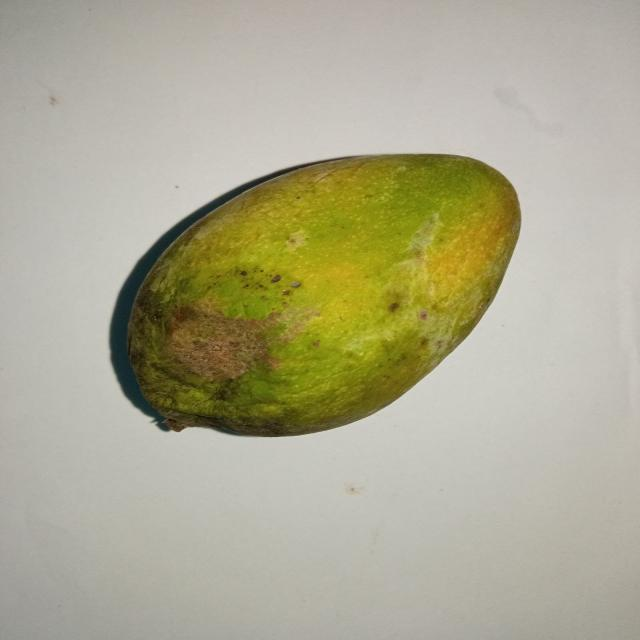rotten_mango: (125, 153, 518, 435)
